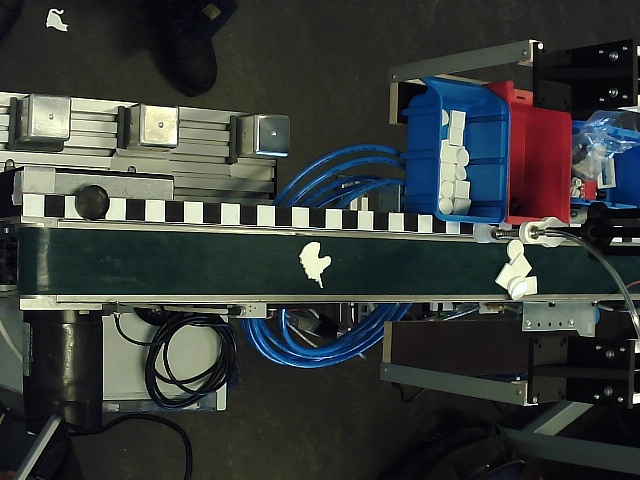unicorn: (299, 241, 331, 290)
